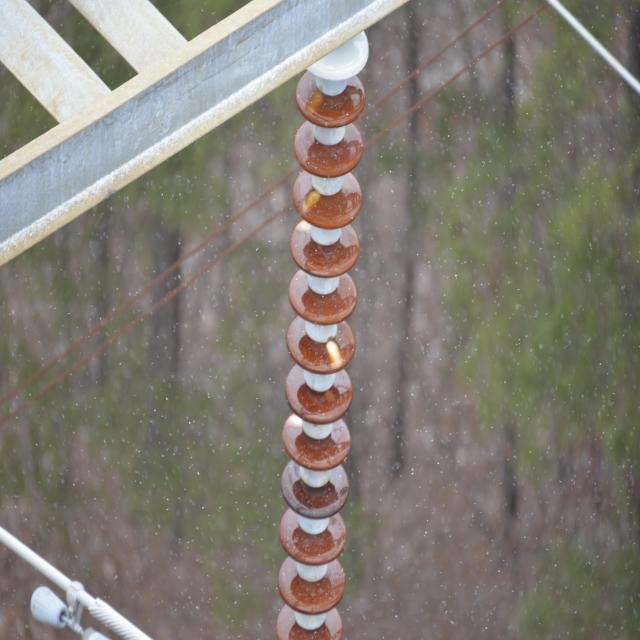insulator: (275, 22, 369, 640)
